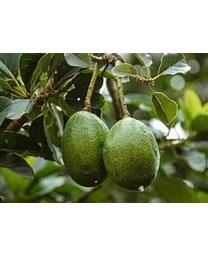avocado: (101, 115, 162, 193), (60, 109, 115, 188)
